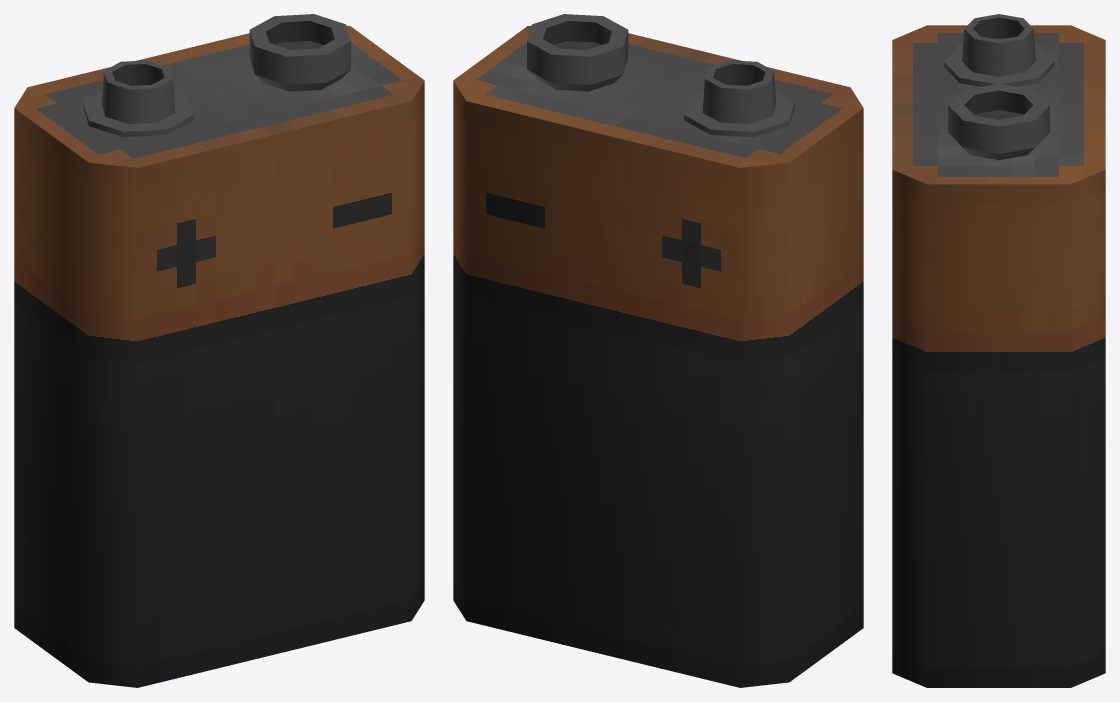
Rendered from battery_mp_3_2.glb.
3 renders of one model, left to right at view 1: azimuth 30°, elevation 25°; view 2: azimuth 150°, elevation 25°; view 3: azimuth 270°, elevation 25°, orthographic. The views are drawn at different scales.
Parts seen in each view (by area): view 1: battery_mp_3_2; view 2: battery_mp_3_2; view 3: battery_mp_3_2.
Boxes of the visible parts, left/top/right/bottom form: battery_mp_3_2: left=14, top=14, right=424, bottom=687; battery_mp_3_2: left=453, top=14, right=863, bottom=687; battery_mp_3_2: left=892, top=14, right=1105, bottom=687.
Size of the model in its own units: 0.0648 by 0.103 by 0.0368.
1 material, 1 textured.
